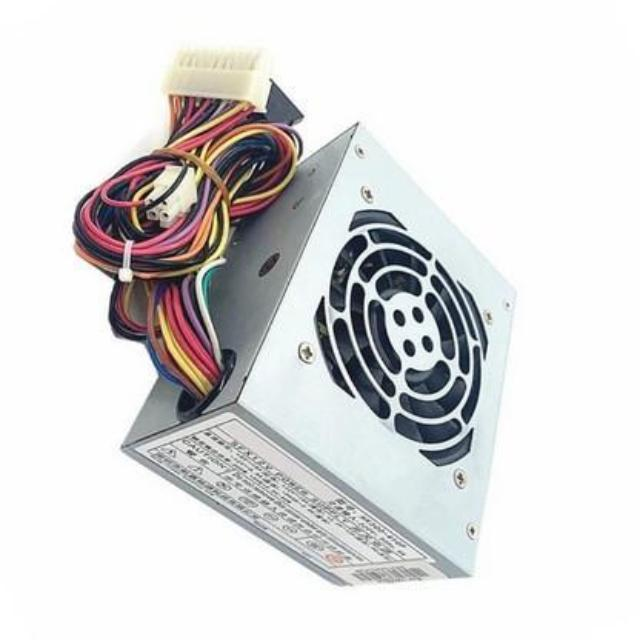PSU: (105, 120, 542, 603)
